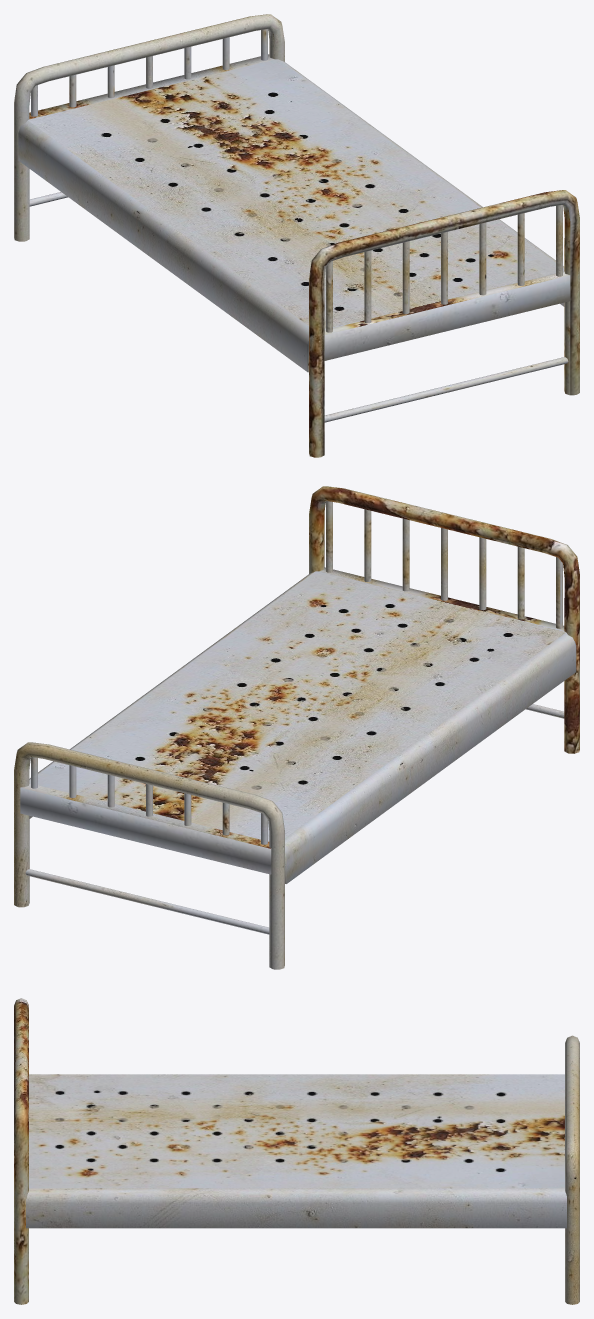
Rendered from bed.gltf.
3 views of the same model, one above another, from view 1: azimuth 30°, elevation 25°; view 2: azimuth 150°, elevation 25°; view 3: azimuth 270°, elevation 25° (orthographic). The views are drawn at different scales.
Visible parts, largest first — view 1: Cube; view 2: Cube; view 3: Cube.
Part boxes in pixels (left/top/right/bottom): Cube: left=14, top=14, right=579, bottom=457; Cube: left=14, top=486, right=579, bottom=969; Cube: left=14, top=998, right=579, bottom=1304.
Size of the model in its own units: 2.51 by 1.83 by 4.89.
1 material, 1 textured.
